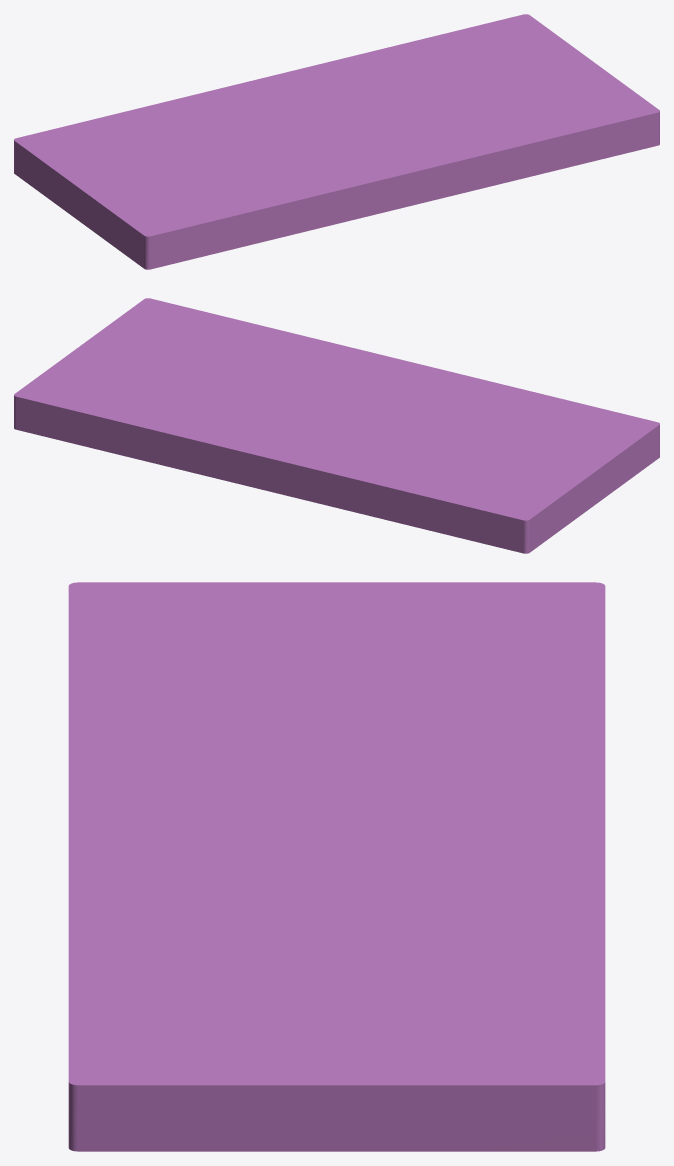
3 views of the same model, one above another, from view 1: azimuth 30°, elevation 25°; view 2: azimuth 150°, elevation 25°; view 3: azimuth 270°, elevation 25° (orthographic). The views are drawn at different scales.
Parts seen in each view (by area): view 1: sheet; view 2: sheet; view 3: sheet.
Part boxes in pixels (left/top/right/bottom): sheet: left=14, top=14, right=659, bottom=269; sheet: left=14, top=298, right=659, bottom=553; sheet: left=68, top=582, right=605, bottom=1151.
Size of the model in its own units: 1.97 by 0.1212 by 0.89.
